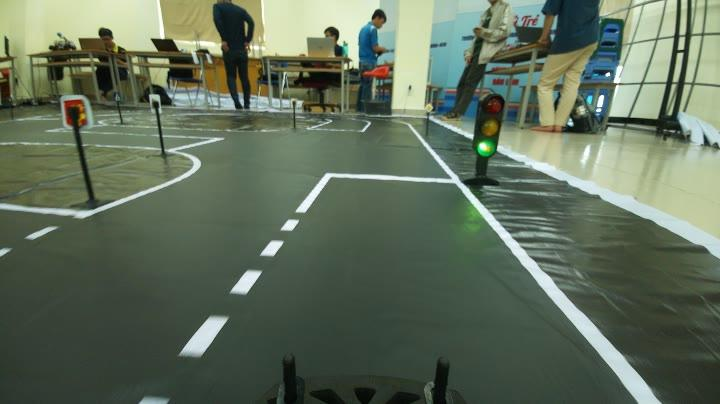trafficlight: (464, 91, 514, 185)
